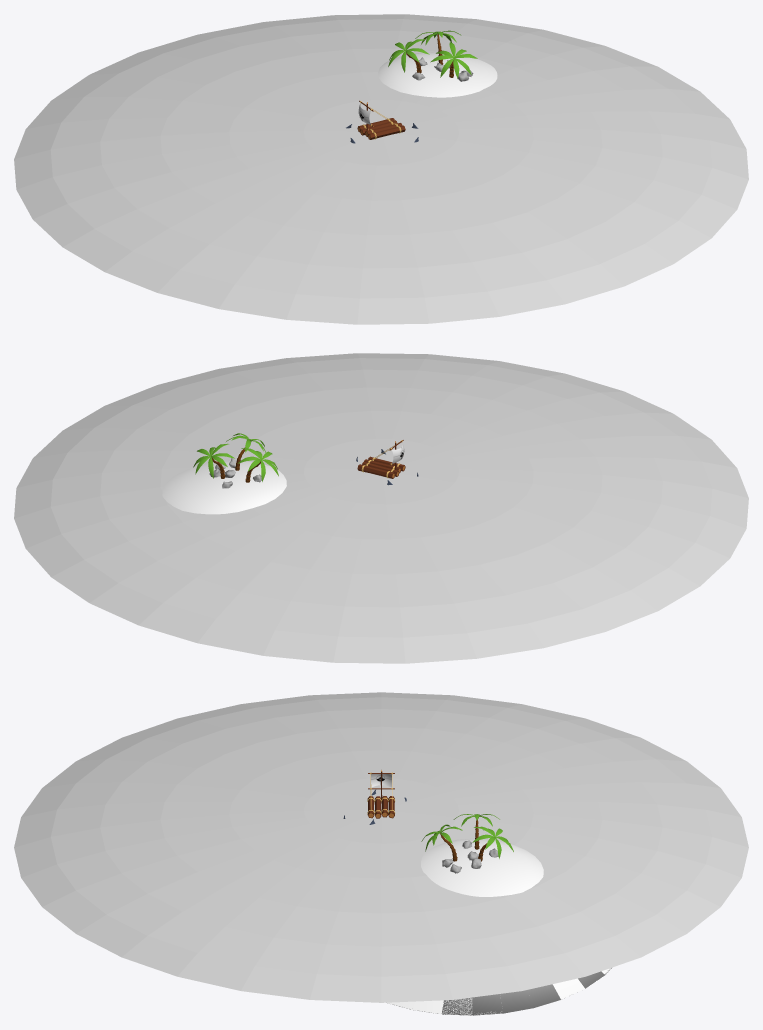
Rendered from pirate-raft-world.glb.
3 renders of one model, top to bottom at view 1: azimuth 30°, elevation 25°; view 2: azimuth 150°, elevation 25°; view 3: azimuth 270°, elevation 25°, orthographic.
Parts seen in each view (by area): view 1: Ocean 2, Island, Tree Canopy.001; view 2: Ocean 2, Island; view 3: Ocean 2, Island.
Part boxes in pixels (x1=…): Ocean 2: x1=14, y1=14, x2=748, y2=324; Island: x1=378, y1=52, x2=497, y2=97; Tree Canopy.001: x1=430, y1=42, x2=477, y2=78; Ocean 2: x1=14, y1=353, x2=748, y2=663; Island: x1=162, y1=461, x2=286, y2=514; Ocean 2: x1=14, y1=692, x2=748, y2=1002; Island: x1=386, y1=838, x2=612, y2=1015.
Size of the model in its own units: 222 by 40.36 by 222.
Materials: 11 (1 with a texture image).
